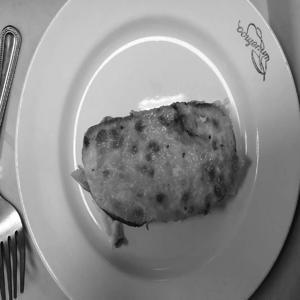cheese_sandwich: (68, 96, 253, 243)
